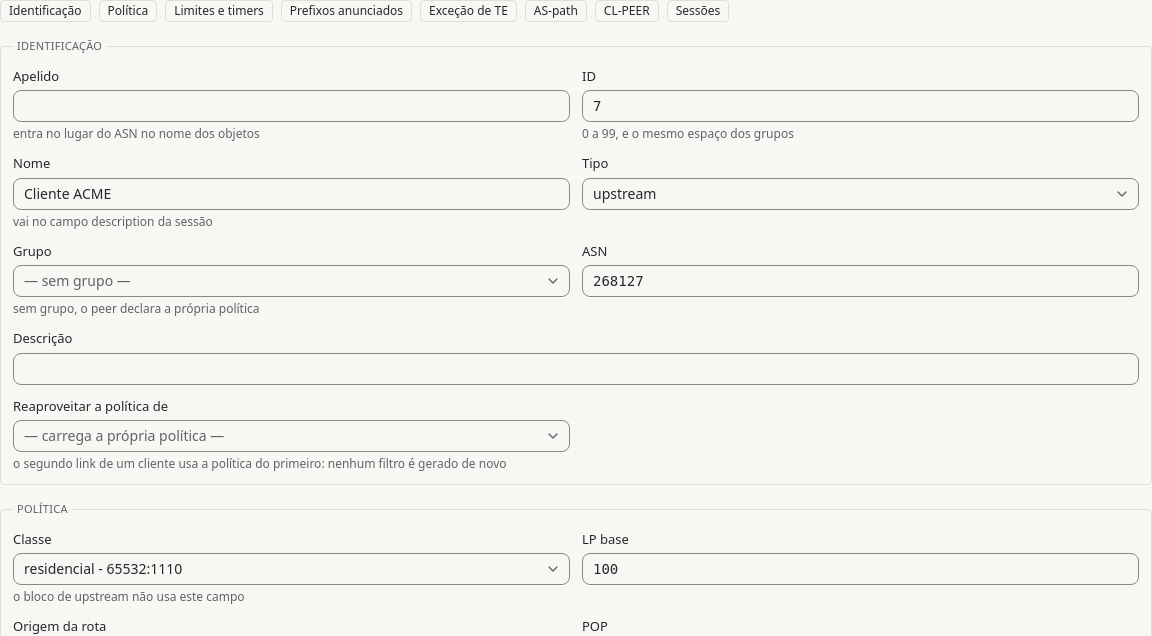
Test: o formulario do peer › trocar o tipo aplica a cascata nos campos que ainda estao no default
Step 1. Click the dropdown named "Tipo" → (625,193), box left=582, top=178, right=1139, bottom=210
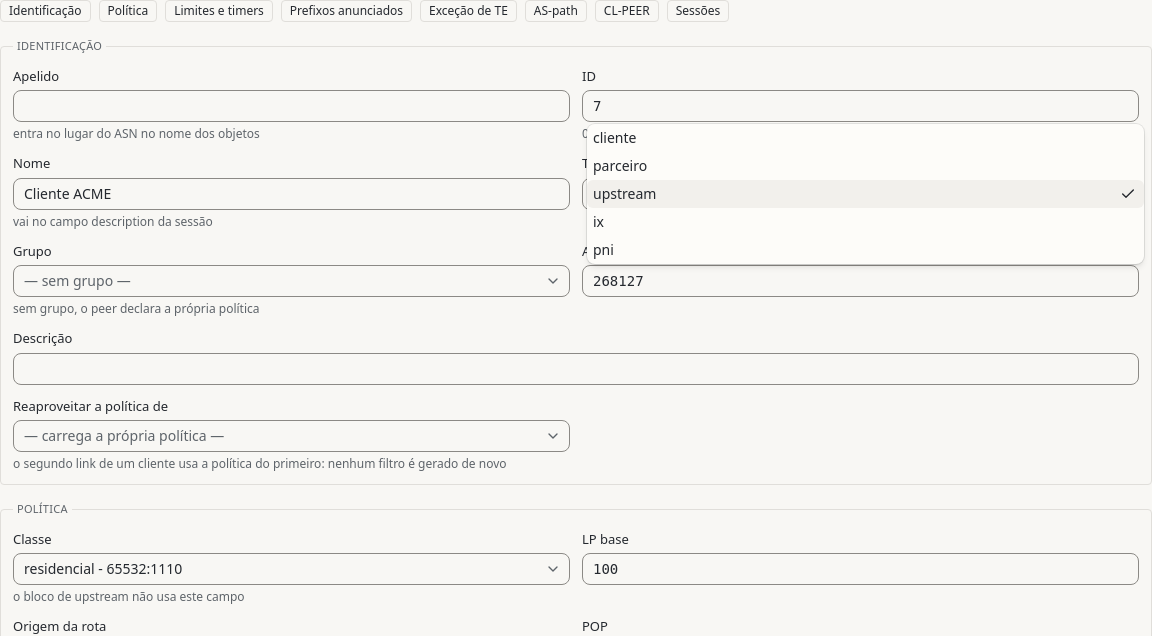
Step 2. Click the option "cliente" → (615,137), box left=593, top=128, right=636, bottom=146
(page scrolled)
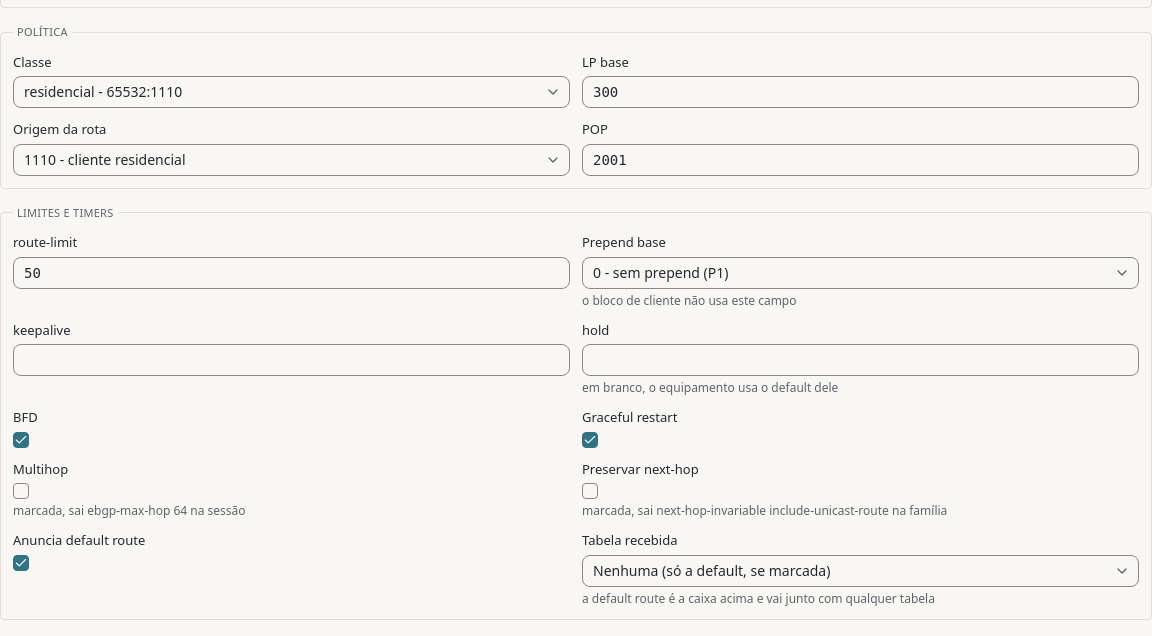
Check: the field labelled "LP base" holds "300", box left=582, top=76, right=1139, bottom=108
Check: the field labelled "route-limit" holds "50", box left=13, top=256, right=570, bottom=288
Check: the field labelled "keepalive" is empty, box left=13, top=344, right=570, bottom=376
